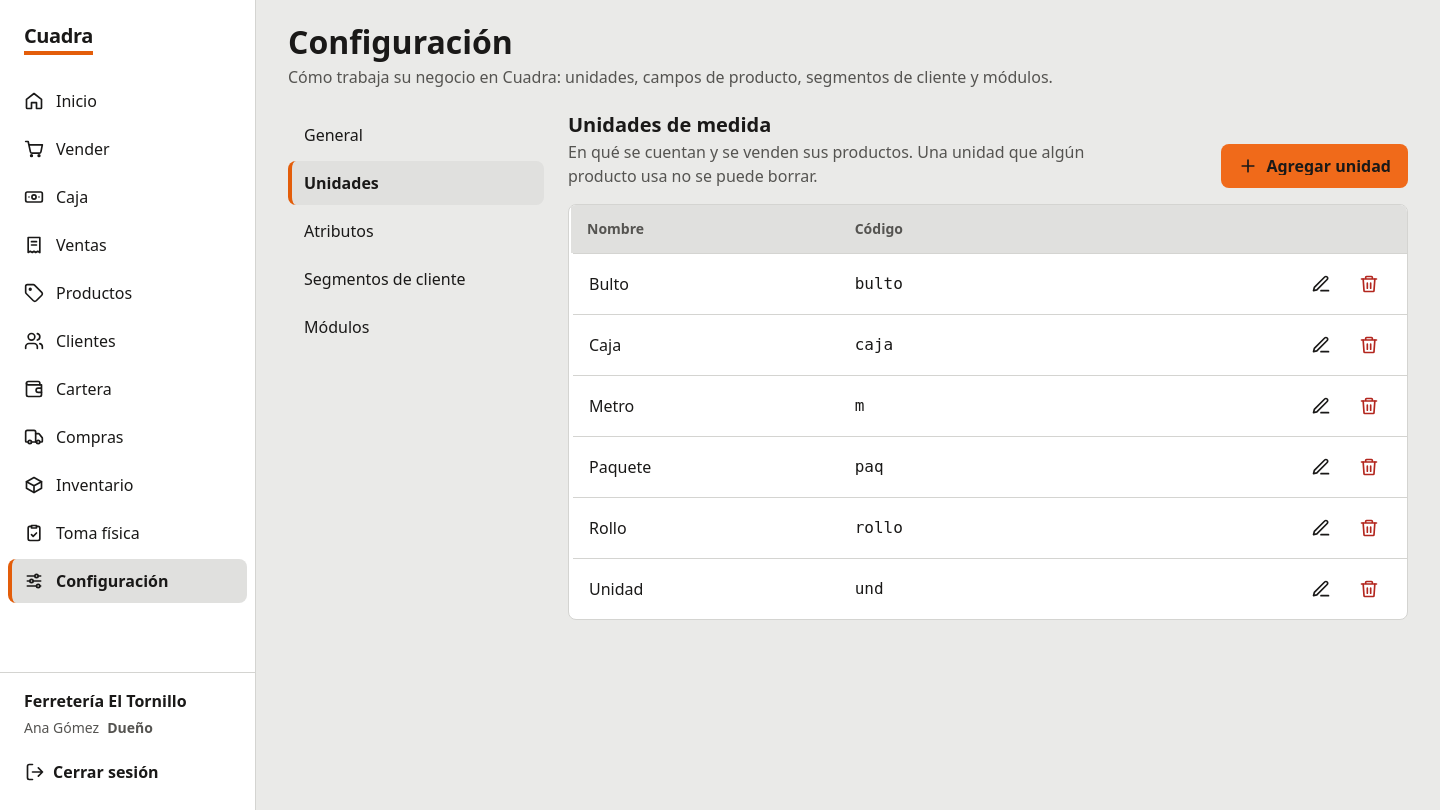
Scenario: UnitsSettings › una unidad en uso no se borra y explica por qué
This screenshot has width=1440, height=810.
Click the button named "Borrar Metro" at (1369, 406), box [1347,384,1391,428]
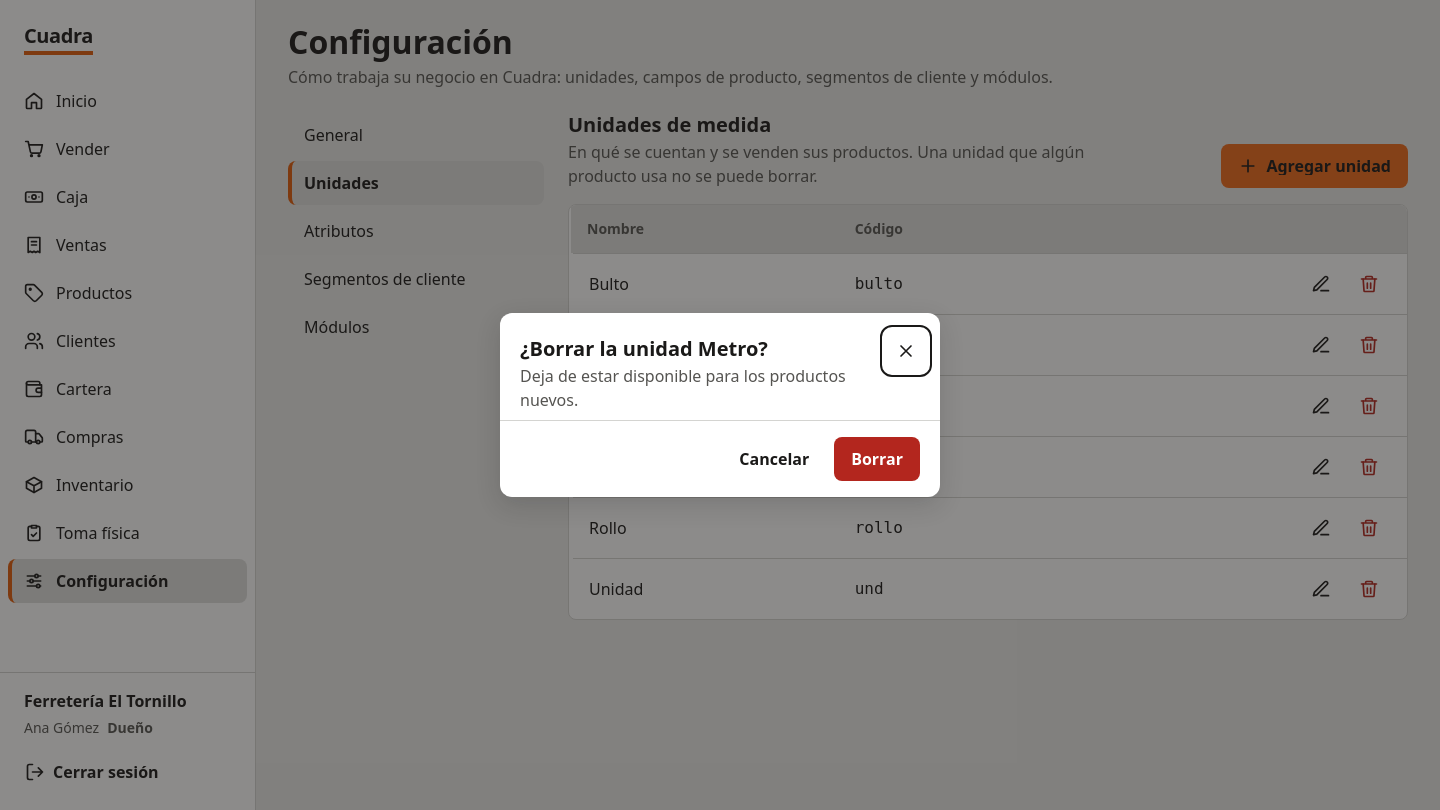
Click the button "Borrar" at (877, 459), box [834,437,920,481]
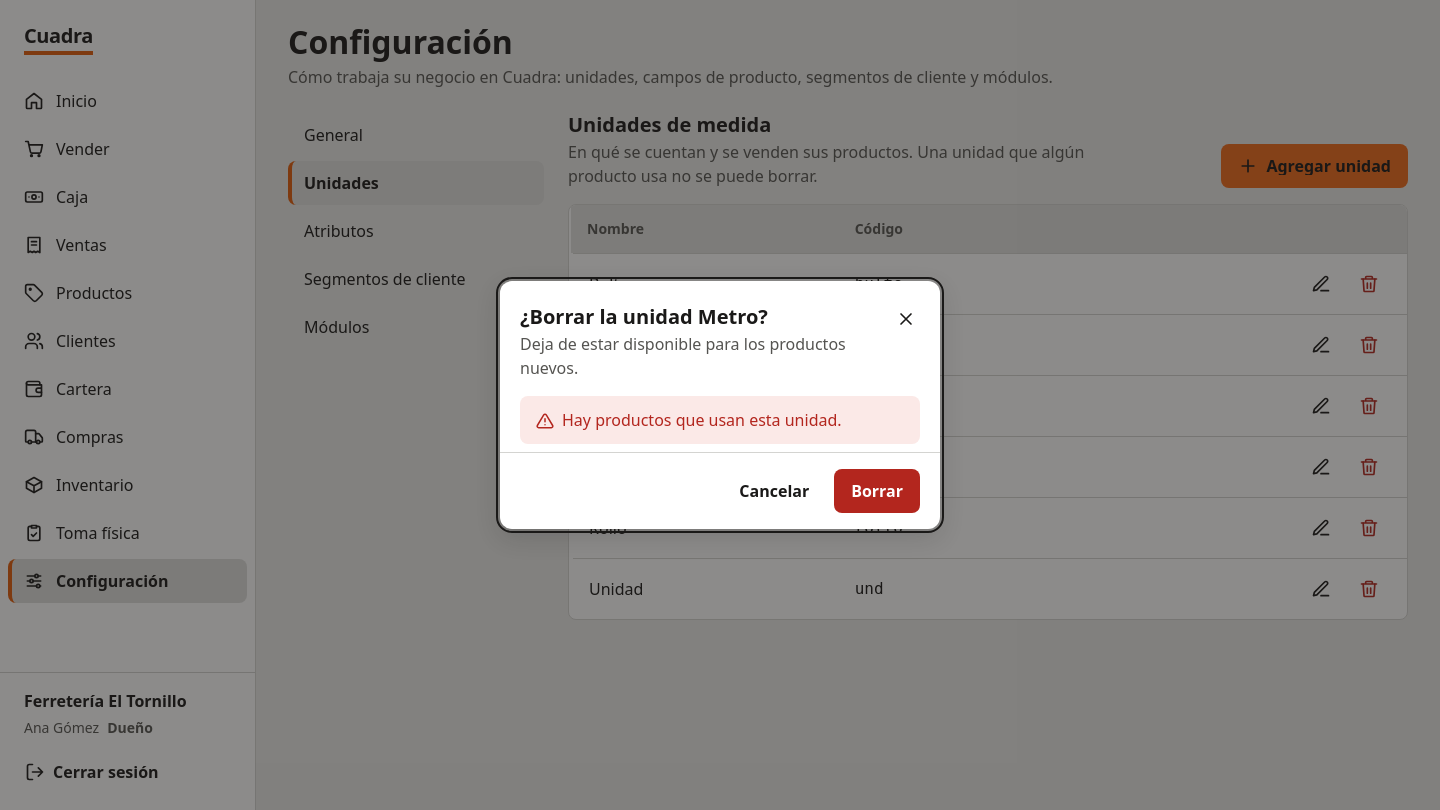
Now the text "Hay productos que usan esta unidad." is shown, box [562,408,842,432]
